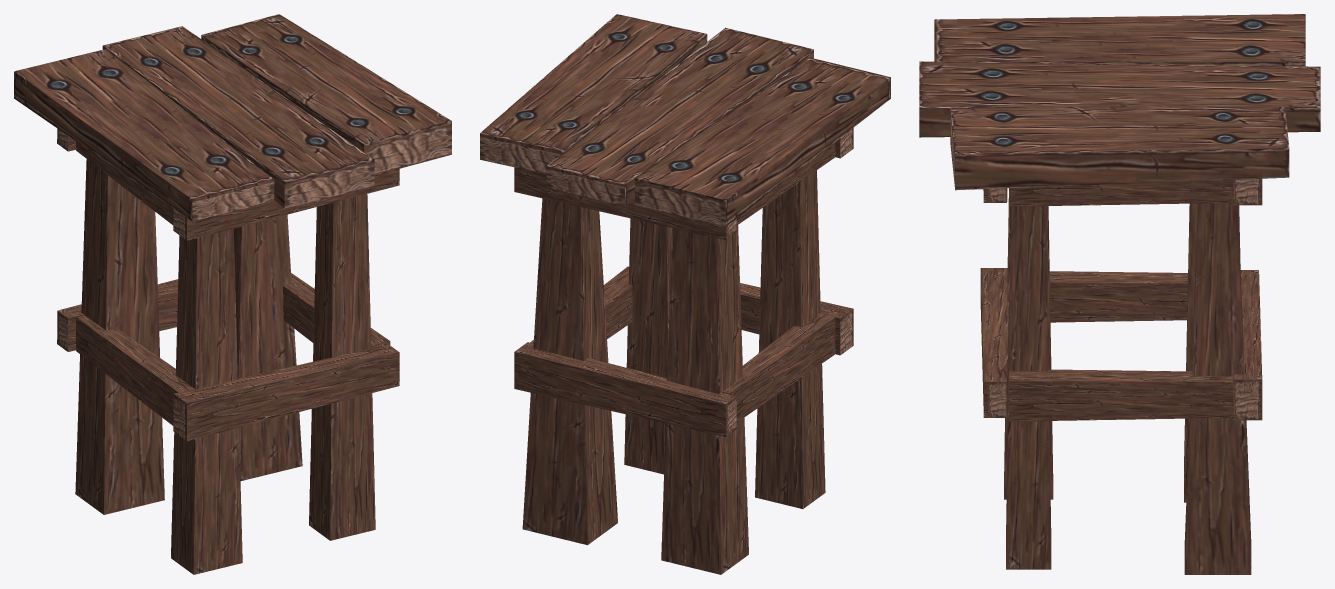
The model's file is Furniture_SquareBarStoolBROKEN_Tavern_DR.fbx.
3 renders of one model, left to right at view 1: azimuth 30°, elevation 25°; view 2: azimuth 150°, elevation 25°; view 3: azimuth 270°, elevation 25°, orthographic. The views are drawn at different scales.
Visible parts, largest first — view 1: polySurface899, polySurface912, polySurface907, polySurface910, polySurface904, polySurface908, polySurface900, polySurface901, polySurface913, polySurface911, polySurface902, polySurface903 (+1 smaller); view 2: polySurface899, polySurface900, polySurface912, polySurface907, polySurface910, polySurface908, polySurface903, polySurface904, polySurface913, polySurface909, polySurface901, polySurface902 (+1 smaller); view 3: polySurface908, polySurface907, polySurface900, polySurface912, polySurface904, polySurface902, polySurface913, polySurface906, polySurface901, polySurface903, polySurface899, polySurface910 (+1 smaller).
Boxes of the visible parts, bbox=[...] form: polySurface899: bbox=[75, 159, 164, 514]; polySurface912: bbox=[14, 49, 274, 221]; polySurface907: bbox=[102, 26, 374, 208]; polySurface910: bbox=[171, 228, 242, 574]; polySurface904: bbox=[309, 194, 375, 540]; polySurface908: bbox=[201, 14, 451, 175]; polySurface900: bbox=[234, 214, 302, 480]; polySurface901: bbox=[173, 344, 399, 441]; polySurface913: bbox=[76, 315, 194, 425]; polySurface911: bbox=[173, 169, 399, 240]; polySurface902: bbox=[283, 273, 390, 348]; polySurface903: bbox=[57, 279, 178, 351]; polySurface899: bbox=[661, 225, 748, 574]; polySurface900: bbox=[522, 198, 617, 545]; polySurface912: bbox=[635, 57, 890, 226]; polySurface907: bbox=[546, 27, 813, 206]; polySurface910: bbox=[755, 170, 825, 508]; polySurface908: bbox=[480, 14, 707, 174]; polySurface903: bbox=[514, 342, 736, 436]; polySurface904: bbox=[624, 218, 672, 474]; polySurface913: bbox=[722, 313, 835, 422]; polySurface909: bbox=[514, 167, 736, 239]; polySurface901: bbox=[740, 283, 853, 355]; polySurface902: bbox=[530, 266, 632, 343]; polySurface908: bbox=[950, 107, 1289, 190]; polySurface907: bbox=[919, 61, 1320, 137]; polySurface900: bbox=[1184, 203, 1251, 574]; polySurface912: bbox=[934, 14, 1305, 66]; polySurface904: bbox=[1006, 206, 1051, 569]; polySurface902: bbox=[1009, 369, 1233, 421]; polySurface913: bbox=[1049, 271, 1187, 322]; polySurface906: bbox=[1009, 179, 1233, 206]; polySurface901: bbox=[980, 268, 1008, 417]; polySurface903: bbox=[1233, 270, 1262, 420]; polySurface899: bbox=[1184, 203, 1240, 502]; polySurface910: bbox=[1004, 198, 1053, 499].
Size of the model in its own units: 58.42 by 84.08 by 69.02.
